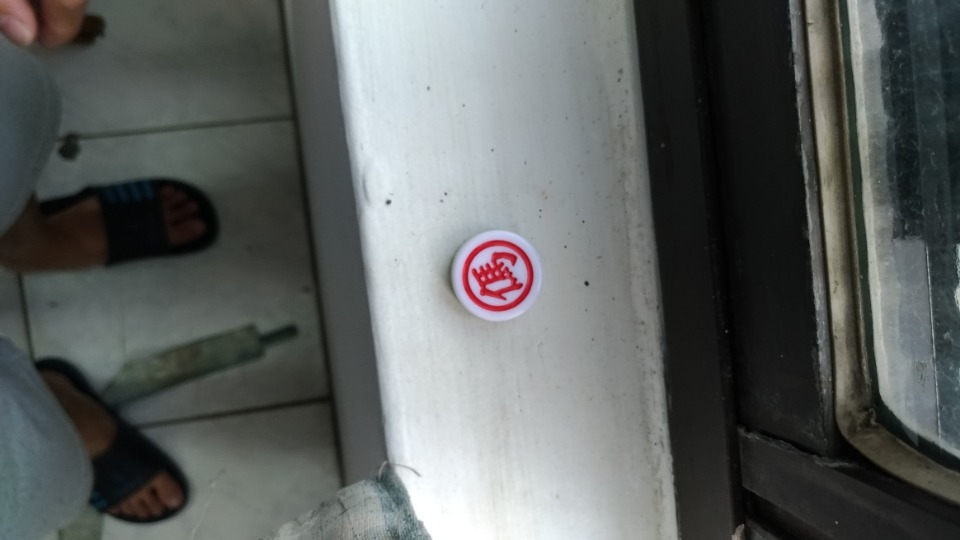r-knight: (436, 226, 563, 336)
